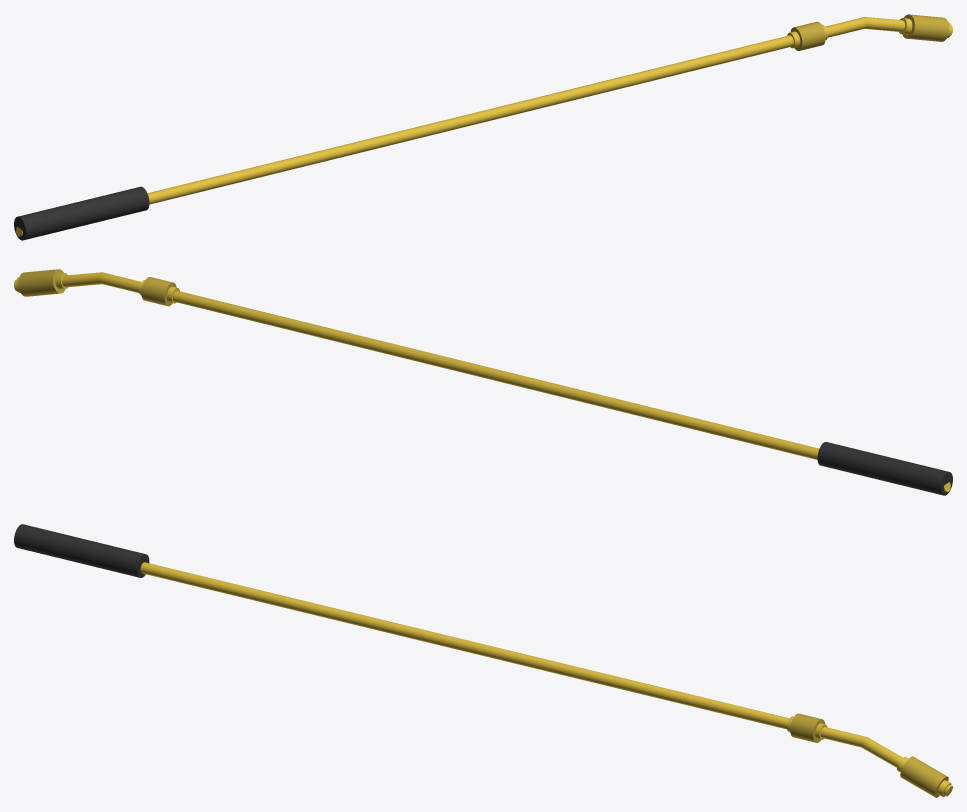
The model's file is boru_normal.fbx.
The picture shows the model from 3 angles, top to bottom: view 1: azimuth 30°, elevation 25°; view 2: azimuth 150°, elevation 25°; view 3: azimuth 330°, elevation 25°; orthographic projection.
Visible parts, largest first — view 1: Cylinder_6; view 2: Cylinder_6; view 3: Cylinder_6.
Part boxes in pixels (x1,y1,x2,y2): Cylinder_6: (14, 14, 952, 240); Cylinder_6: (14, 269, 952, 495); Cylinder_6: (14, 524, 952, 797).
Size of the model in its own units: 612 by 29.8 by 14.18.
